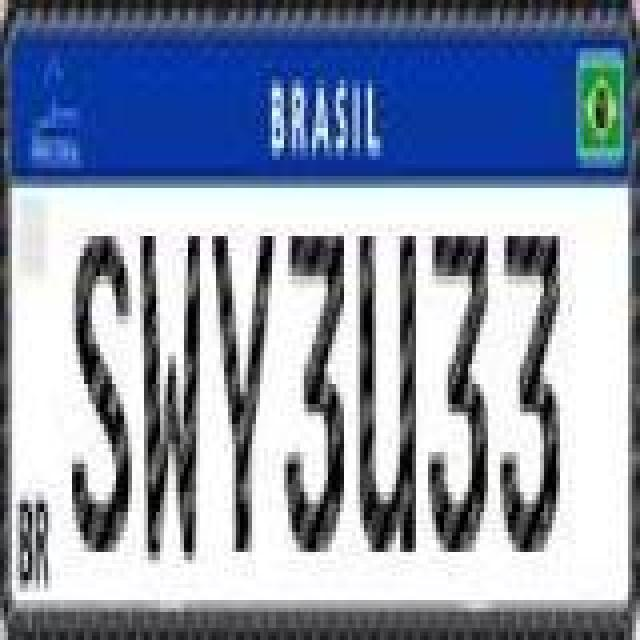3: (494, 224, 562, 560), (280, 224, 344, 560), (424, 230, 488, 554)
S: (72, 224, 136, 560)
U: (358, 224, 418, 560)
W: (134, 224, 202, 560)
Y: (210, 230, 278, 554)
